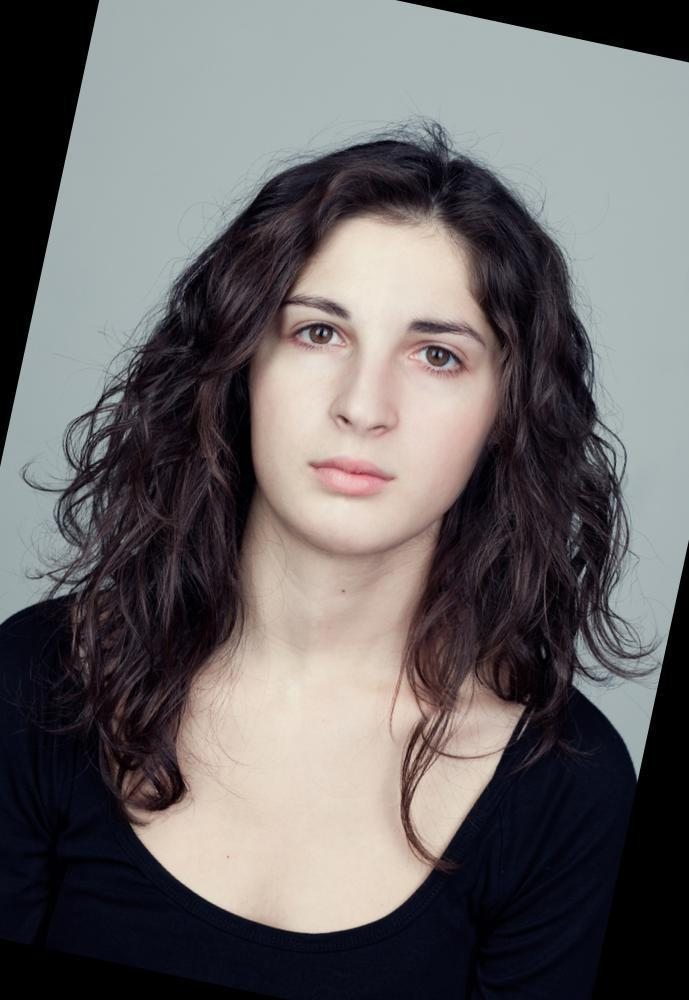Sober: (253, 218, 492, 519)
